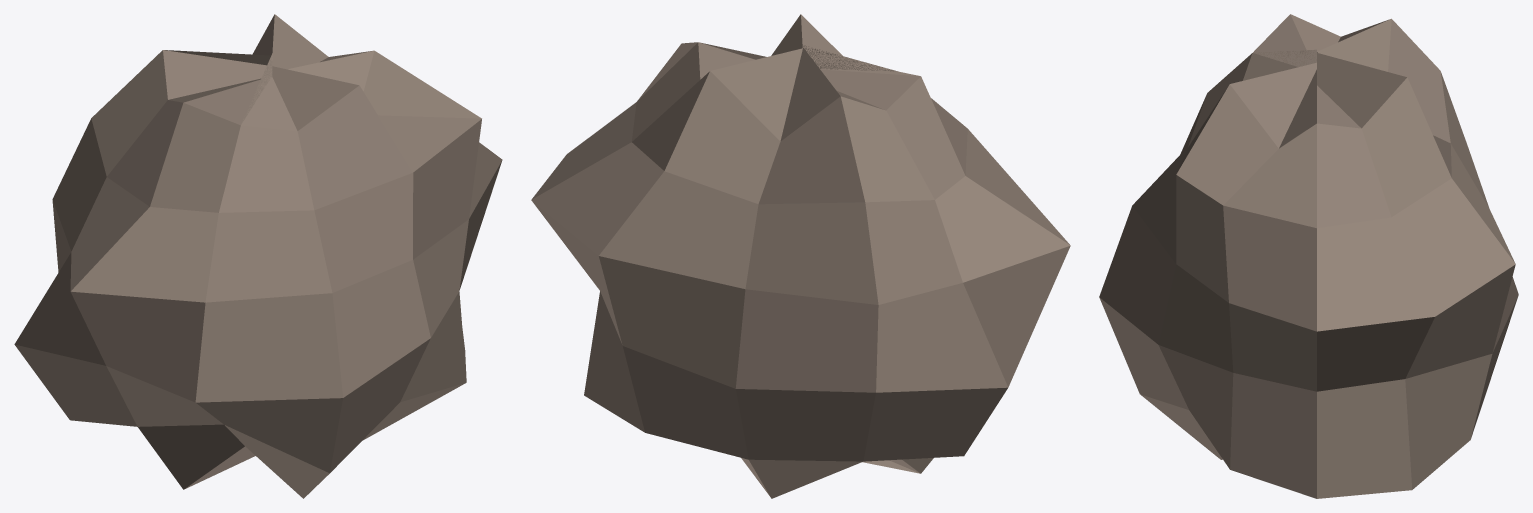
Rendered from Rock01.glb.
The picture shows the model from 3 angles, left to right: view 1: azimuth 30°, elevation 25°; view 2: azimuth 150°, elevation 25°; view 3: azimuth 270°, elevation 25°; orthographic projection. The views are drawn at different scales.
Visible parts, largest first — view 1: Rock01Hull; view 2: Rock01Hull; view 3: Rock01Hull.
Boxes of the visible parts, box(x1,y1,x2,y2) form: Rock01Hull: box(14, 14, 502, 498); Rock01Hull: box(531, 14, 1070, 498); Rock01Hull: box(1099, 14, 1518, 498).
Size of the model in its own units: 2.04 by 1.77 by 1.57.
